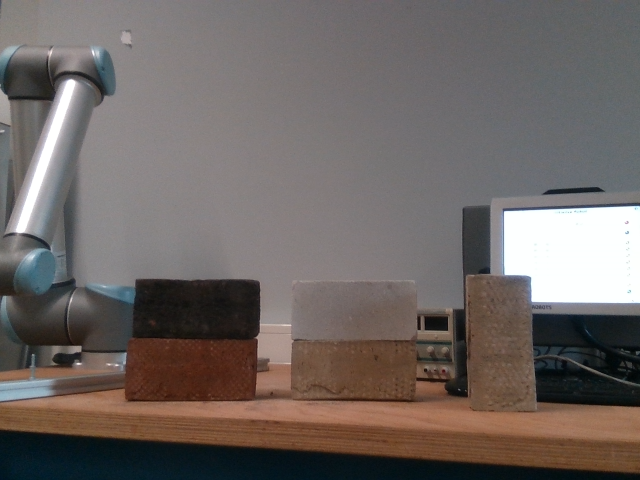brick: (472, 279, 532, 409), (129, 339, 253, 395), (293, 282, 417, 338), (135, 279, 258, 335), (293, 341, 416, 397)
